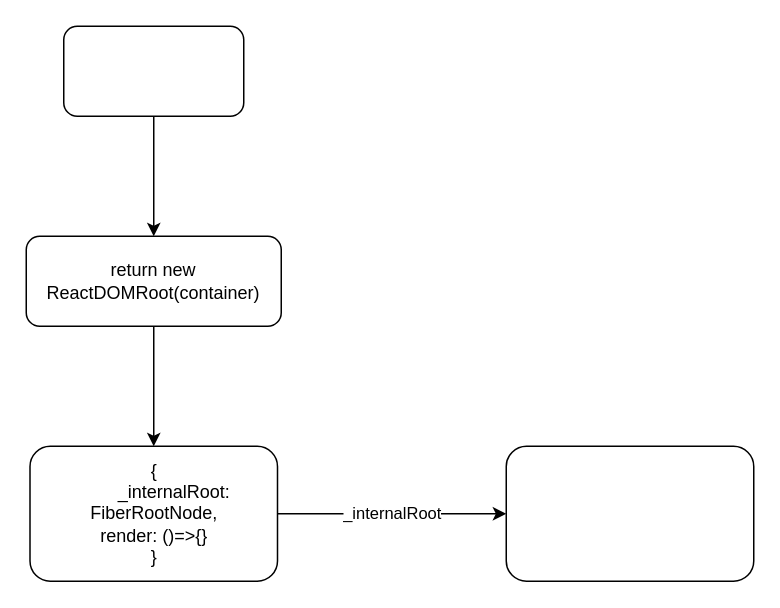
This 780x608 diagram has some shape labels left out. Each missing label, with the box of its shape:
createRoot: (62, 25, 244, 116)
{ current: FiberNode, tag: ConCurrentNode, containerInfo: container }: (505, 445, 754, 581)
